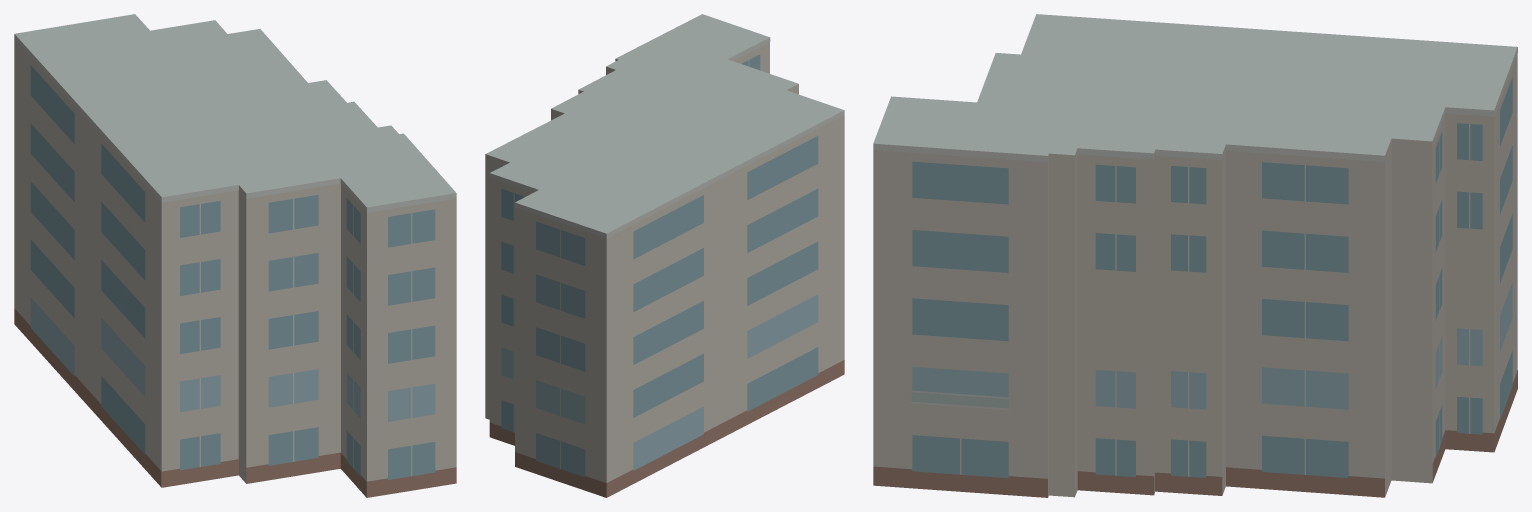
Rendered from survey-upis-32666112.glb.
3 views of the same model, side by side, from view 1: azimuth 30°, elevation 25°; view 2: azimuth 150°, elevation 25°; view 3: azimuth 270°, elevation 25° (orthographic). The views are drawn at different scales.
Visible parts, largest first — view 1: survey-upis-32666112.tmp; view 2: survey-upis-32666112.tmp; view 3: survey-upis-32666112.tmp.
Boxes of the visible parts, bbox=[...] form: survey-upis-32666112.tmp: bbox=[14, 14, 456, 497]; survey-upis-32666112.tmp: bbox=[485, 14, 844, 497]; survey-upis-32666112.tmp: bbox=[873, 14, 1517, 497].
Size of the model in its own units: 11.94 by 13.4 by 22.9.
